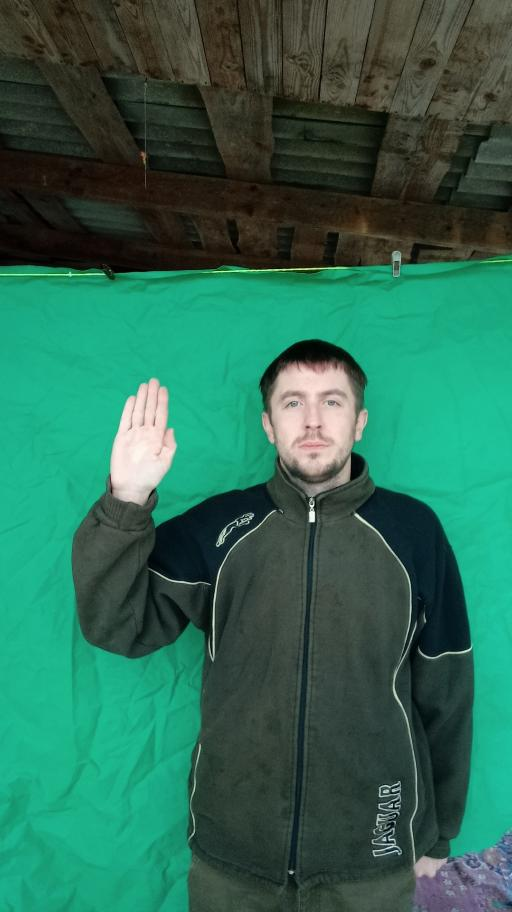stop: (105, 375, 178, 498)
